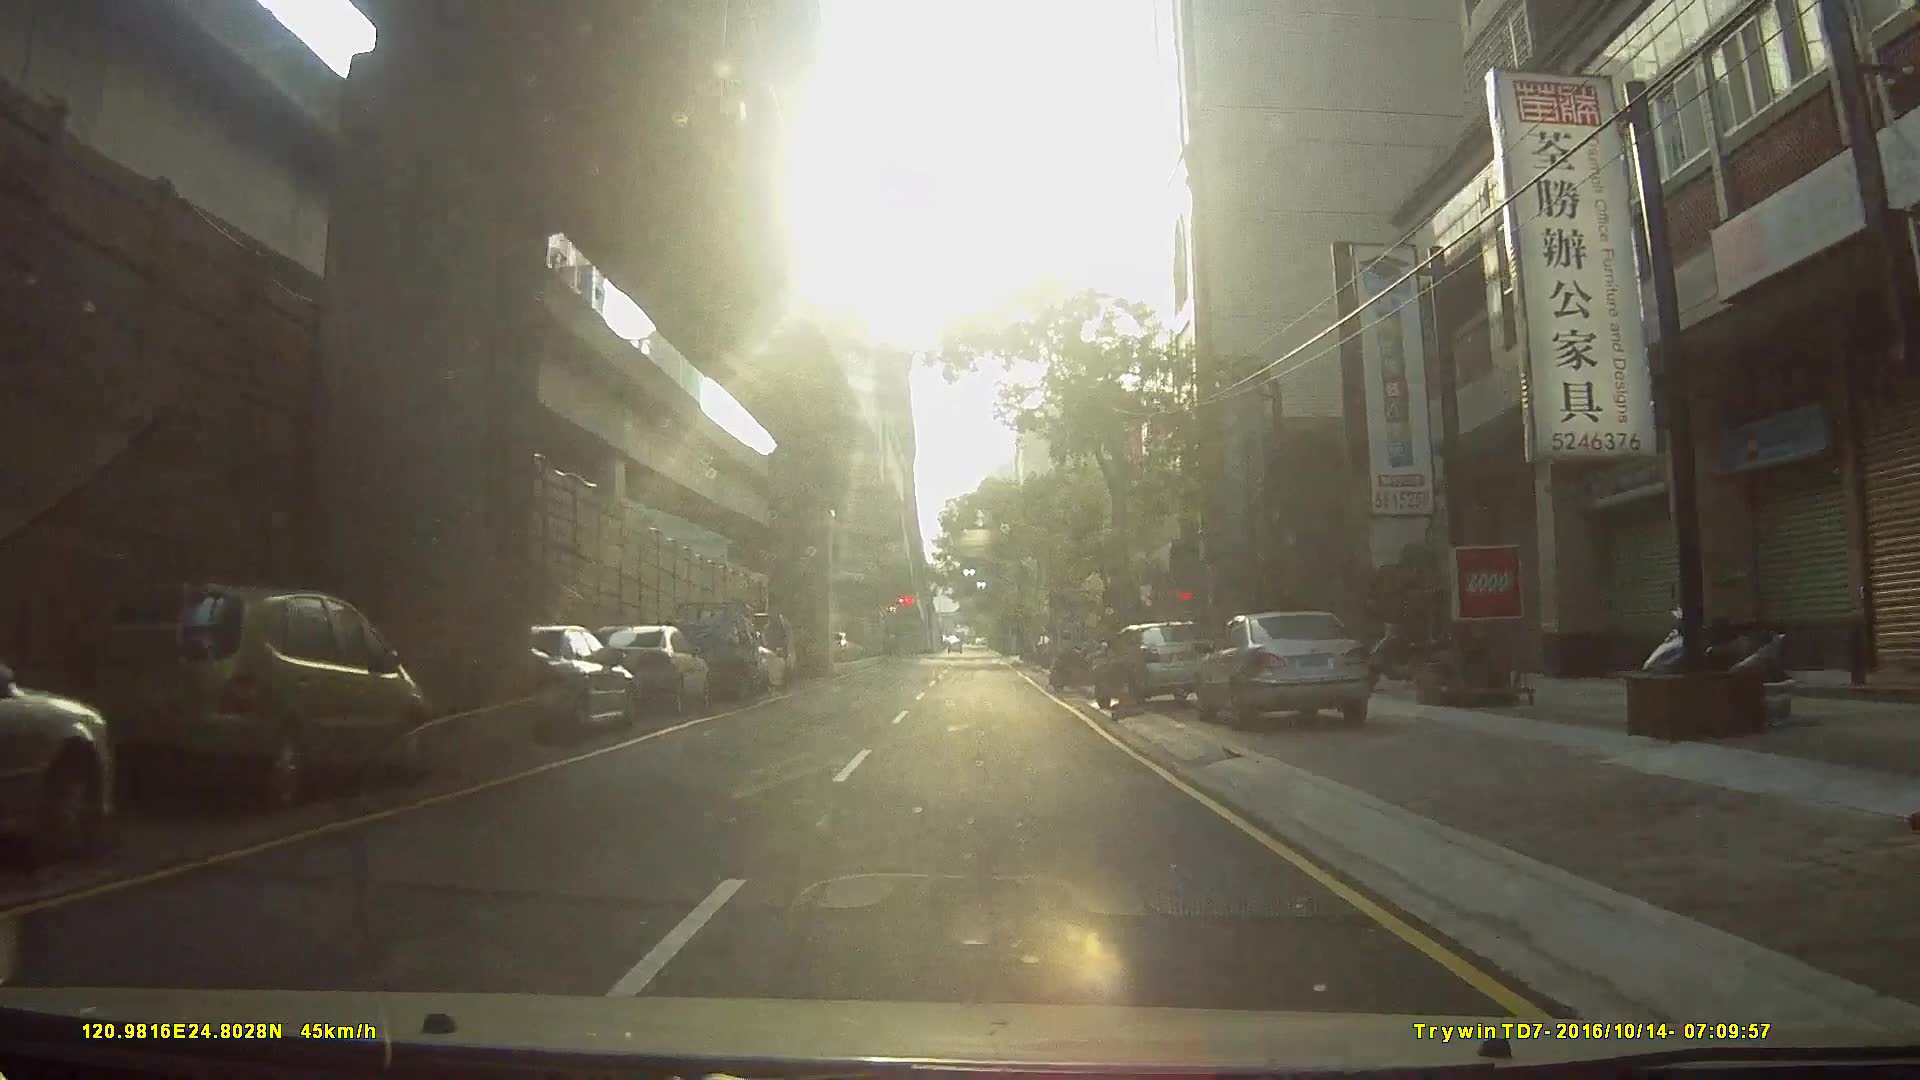rider: (1048, 627, 1101, 691)
vehicle: (67, 580, 415, 819), (1, 638, 120, 871), (1195, 607, 1382, 727), (469, 621, 637, 750), (1091, 618, 1221, 711), (578, 623, 710, 714), (653, 598, 760, 704)
